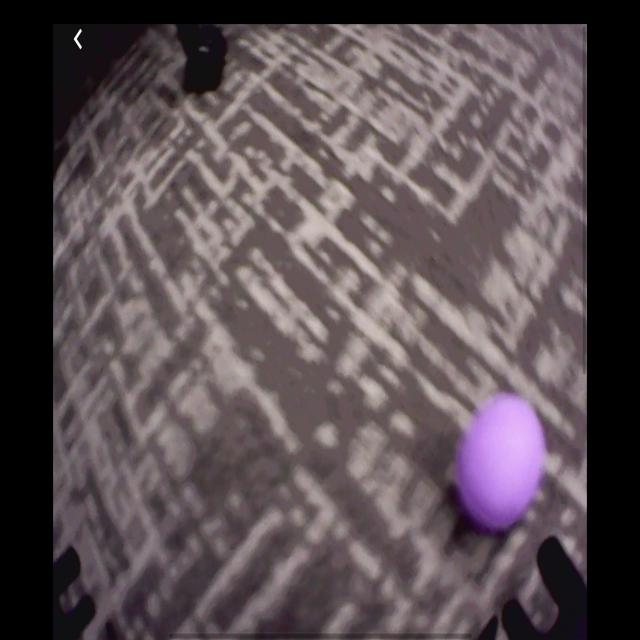ball: (457, 392, 544, 541)
